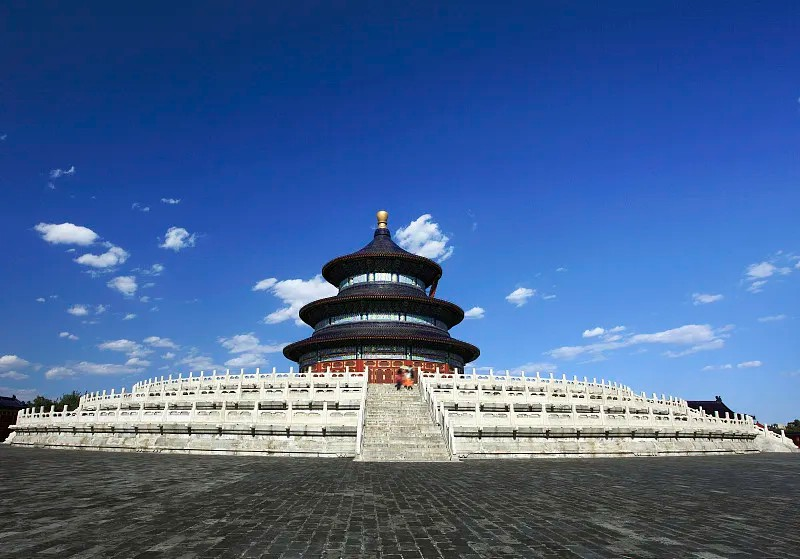Heaven: (281, 208, 481, 380)
